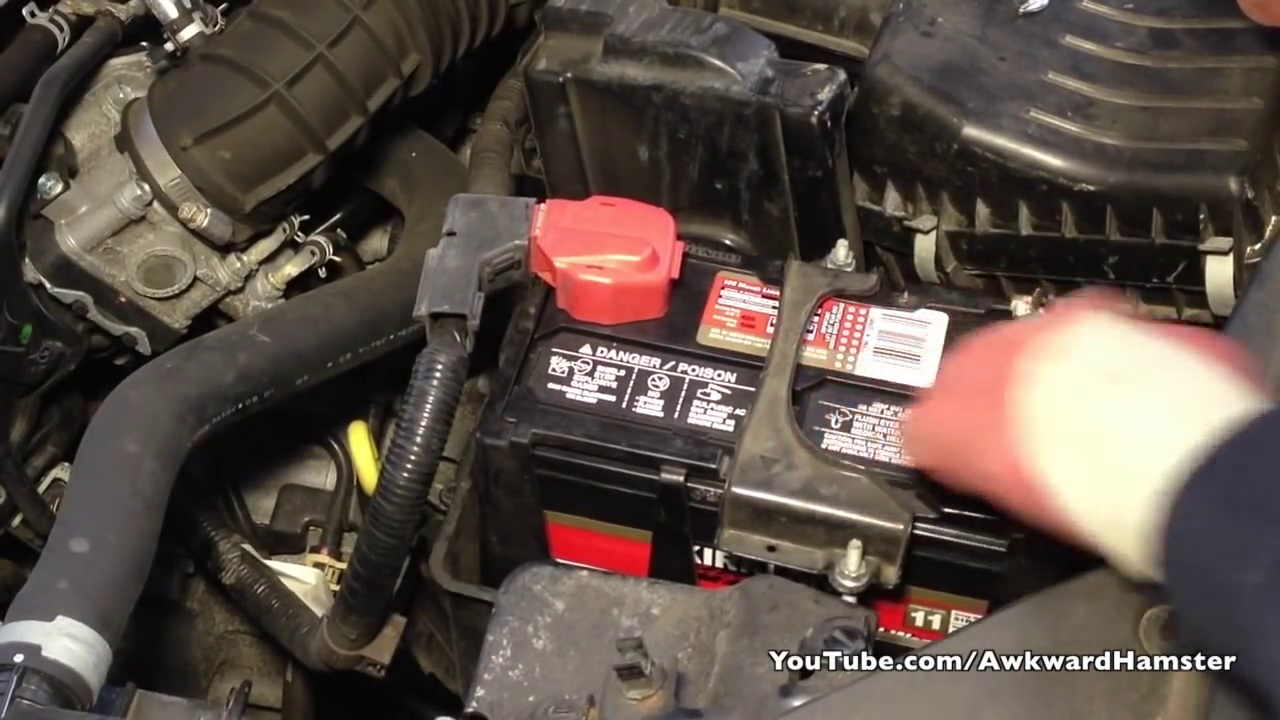battery: (468, 210, 1029, 542)
pos_connected: (495, 186, 681, 345)
